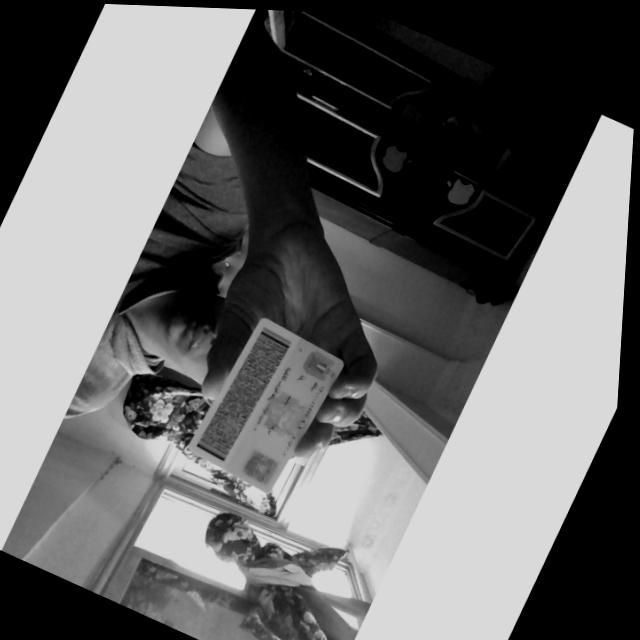id_card: (189, 318, 343, 492)
